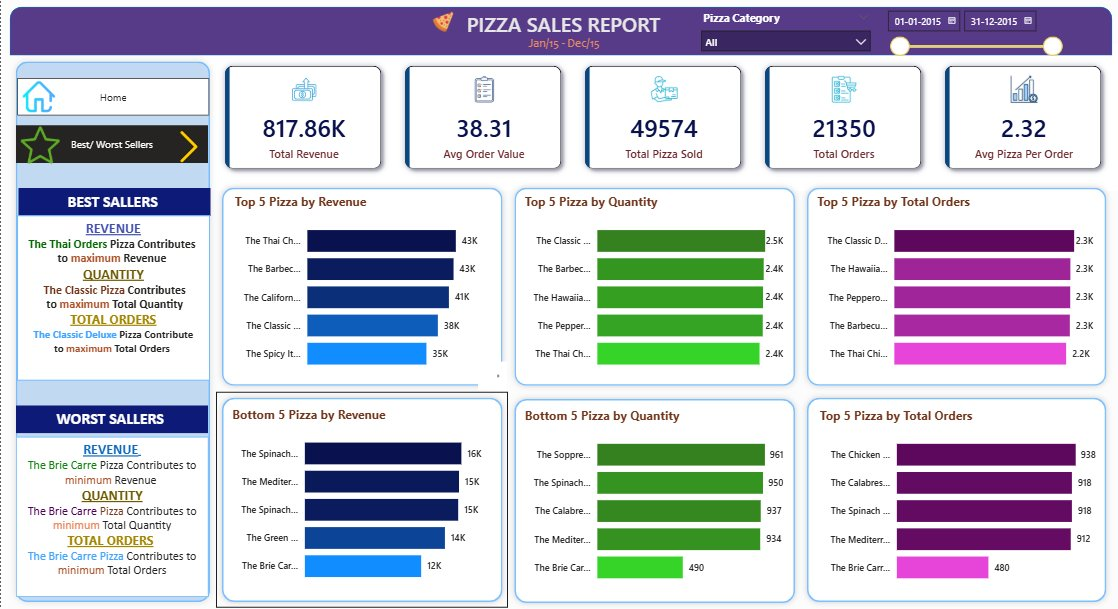

What the dashboard file says about the page in this screenshot:
{"tool":"powerbi","page":{"name":"Best/ Worst Sellers","canvas":[1500,820],"ordinal":1},"visuals":[{"type":"cardVisual","fields":{"Data":["pizza_sales.Total Revenue","pizza_sales.Avg Order Value","pizza_sales.Total Pizza Sold","pizza_sales.Total Orders","pizza_sales.Avg Pizza Per Order"]},"box":[270,61.7,1230,195],"z":0},{"type":"shape","box":[11.7,11.7,1470,65],"z":1000},{"type":"textbox","box":[603.3,11.7,293.3,48.3],"z":2000},{"type":"textbox","box":[692.5,45,115,31.2],"z":3000},{"type":"image","box":[568.8,17.5,42.5,27.5],"z":4000},{"type":"shape","box":[286.7,245,390,280],"z":5000},{"type":"shape","box":[11.7,76.7,275,736.7],"z":6000},{"type":"textbox","box":[22.9,252.9,255.7,37.1],"z":7000},{"type":"textbox","box":[21.7,290,256.7,220],"z":8000},{"type":"textbox","box":[20,542.9,255.7,37.1],"z":9000},{"type":"textbox","box":[20,585,256.7,213.3],"z":10000},{"type":"slicer","fields":{"Values":["pizza_sales.pizza_category"]},"box":[922.9,11.4,245.7,65.7],"z":11000},{"type":"slicer","fields":{"Values":["pizza_sales.order_date"]},"box":[1170,6.7,253.3,85],"z":12000},{"type":"shape","box":[1066.7,245,415,280],"z":13000},{"type":"shape","box":[676.7,245,390,280],"z":14000},{"type":"shape","box":[286.7,525,390,288.3],"z":15000},{"type":"shape","box":[676,526,390,288],"z":16000},{"type":"shape","box":[1066.7,525,415,288.3],"z":17000},{"type":"barChart","title":"Bottom 5 Pizza by Revenue","fields":{"Category":["pizza_sales.pizza_name"],"Y":["pizza_sales.Total Revenue"]},"box":[303.3,543.3,355,250],"z":18000},{"type":"barChart","title":"Bottom 5 Pizza by Quantity","fields":{"Category":["pizza_sales.pizza_name"],"Y":["pizza_sales.Total Pizza Sold"]},"box":[693,545,355,250],"z":19000},{"type":"barChart","title":"Top 5 Pizza by Quantity","fields":{"Category":["pizza_sales.pizza_name"],"Y":["pizza_sales.Total Pizza Sold"]},"box":[693,260,355,250],"z":20000},{"type":"barChart","title":"Top 5 Pizza by Total Orders","fields":{"Category":["pizza_sales.pizza_name"],"Y":["pizza_sales.Total Orders"]},"box":[1083.3,260,378.3,250],"z":21000},{"type":"barChart","title":"Top 5 Pizza by Total Orders","fields":{"Category":["pizza_sales.pizza_name"],"Y":["pizza_sales.Total Orders"]},"box":[1086.7,545,378.3,250],"z":22000},{"type":"barChart","title":"Top 5 Pizza by Revenue","fields":{"Category":["pizza_sales.pizza_name"],"Y":["pizza_sales.Total Revenue"]},"box":[306.7,260,355,250],"z":23000},{"type":"pageNavigator","box":[20,170,256.7,50],"z":24000},{"type":"pageNavigator","box":[21.7,106.7,256.7,50],"z":25000},{"type":"image","box":[225,176.7,51.7,43.3],"z":26000},{"type":"image","box":[23.3,110,55,43.3],"z":27000},{"type":"image","box":[20,170,65,51.7],"z":28000}]}

Visuals, with their boxes in screenshot pixels (x1, y1, x2, y2), scaled from the page's 1500x820 canvas onto the 1118x609 screenshot:
cardVisual - pizza_sales.Total Revenue x pizza_sales.Avg Order Value: x1=201 y1=46 x2=1117 y2=191
shape: x1=9 y1=9 x2=1104 y2=57
textbox: x1=450 y1=9 x2=668 y2=45
textbox: x1=516 y1=33 x2=602 y2=57
image: x1=424 y1=13 x2=456 y2=33
shape: x1=214 y1=182 x2=504 y2=390
shape: x1=9 y1=57 x2=214 y2=604
textbox: x1=17 y1=188 x2=208 y2=215
textbox: x1=16 y1=215 x2=208 y2=379
textbox: x1=15 y1=403 x2=205 y2=431
textbox: x1=15 y1=434 x2=206 y2=593
slicer - pizza_sales.pizza_category: x1=688 y1=8 x2=871 y2=57
slicer - pizza_sales.order_date: x1=872 y1=5 x2=1061 y2=68
shape: x1=795 y1=182 x2=1104 y2=390
shape: x1=504 y1=182 x2=795 y2=390
shape: x1=214 y1=390 x2=504 y2=604
shape: x1=504 y1=391 x2=795 y2=605
shape: x1=795 y1=390 x2=1104 y2=604
"Bottom 5 Pizza by Revenue" barChart: x1=226 y1=403 x2=491 y2=589
"Bottom 5 Pizza by Quantity" barChart: x1=517 y1=405 x2=781 y2=590
"Top 5 Pizza by Quantity" barChart: x1=517 y1=193 x2=781 y2=379
"Top 5 Pizza by Total Orders" barChart: x1=807 y1=193 x2=1089 y2=379
"Top 5 Pizza by Total Orders" barChart: x1=810 y1=405 x2=1092 y2=590
"Top 5 Pizza by Revenue" barChart: x1=229 y1=193 x2=493 y2=379
pageNavigator: x1=15 y1=126 x2=206 y2=163
pageNavigator: x1=16 y1=79 x2=208 y2=116
image: x1=168 y1=131 x2=206 y2=163
image: x1=17 y1=82 x2=58 y2=114
image: x1=15 y1=126 x2=63 y2=165
